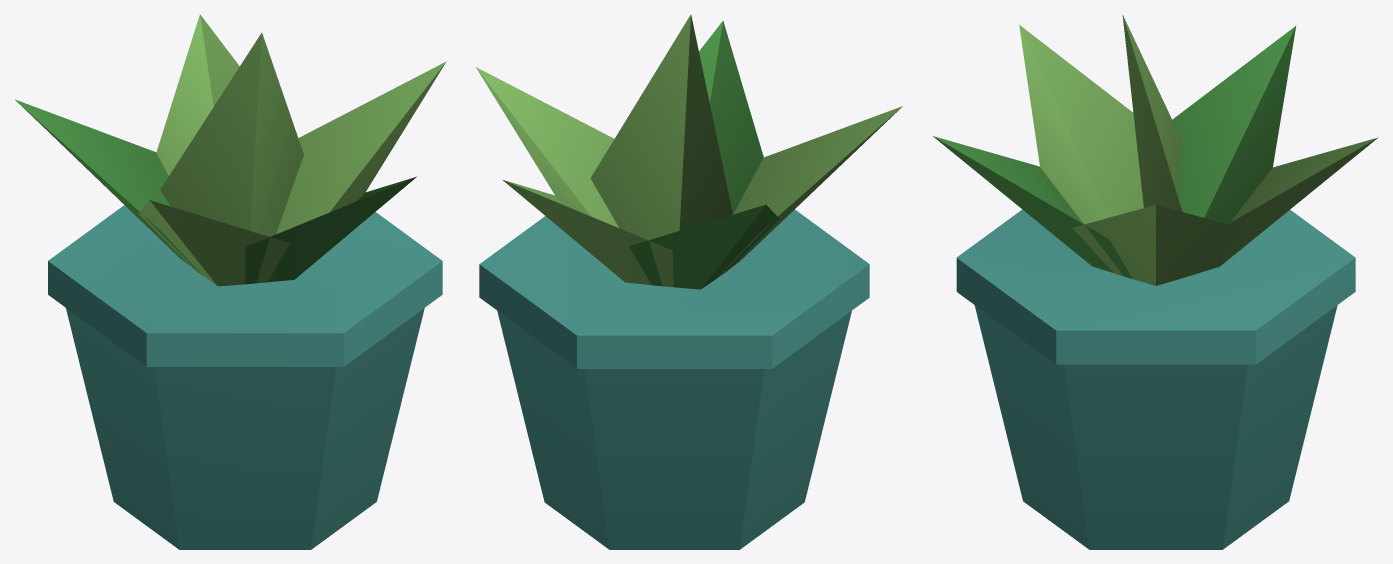
Rendered from plant_desk_01.glb.
3 views of the same model, side by side, from view 1: azimuth 30°, elevation 25°; view 2: azimuth 150°, elevation 25°; view 3: azimuth 270°, elevation 25° (orthographic). The views are drawn at different scales.
Visible parts, largest first — view 1: plant_desk_01_mesh; view 2: plant_desk_01_mesh; view 3: plant_desk_01_mesh.
Part boxes in pixels (<box>): plant_desk_01_mesh: <box>15,14,446,549</box>; plant_desk_01_mesh: <box>476,14,902,549</box>; plant_desk_01_mesh: <box>933,15,1378,549</box>.
Size of the model in its own units: 0.1269 by 0.16 by 0.1329.
Materials: 1 (1 with a texture image).
